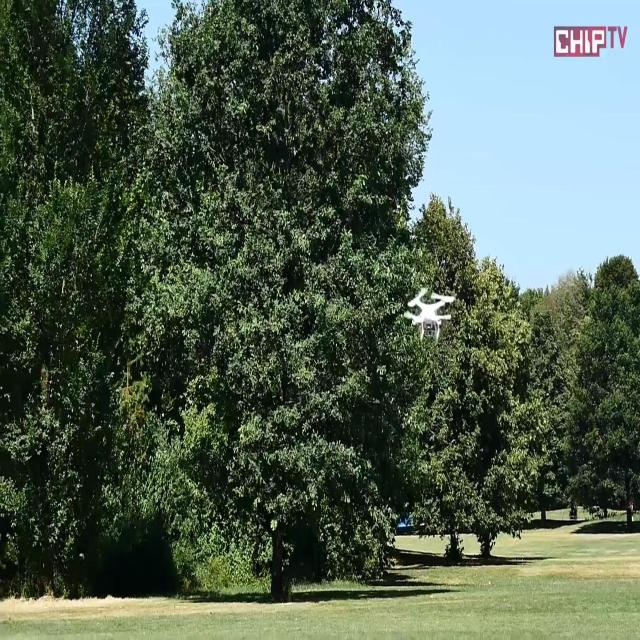drone: (401, 284, 456, 339)
